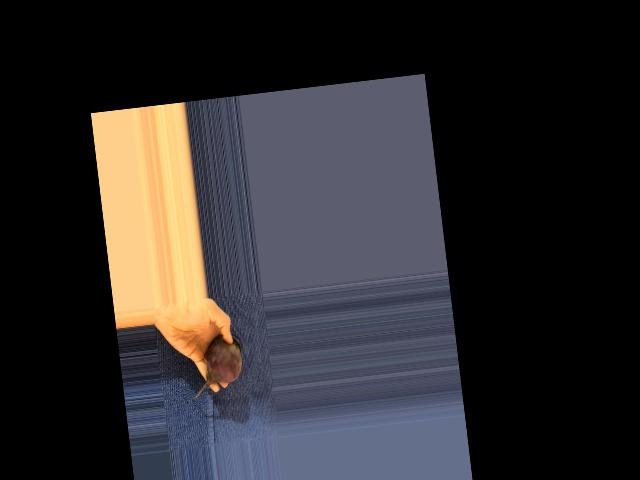beet: (186, 333, 247, 399)
